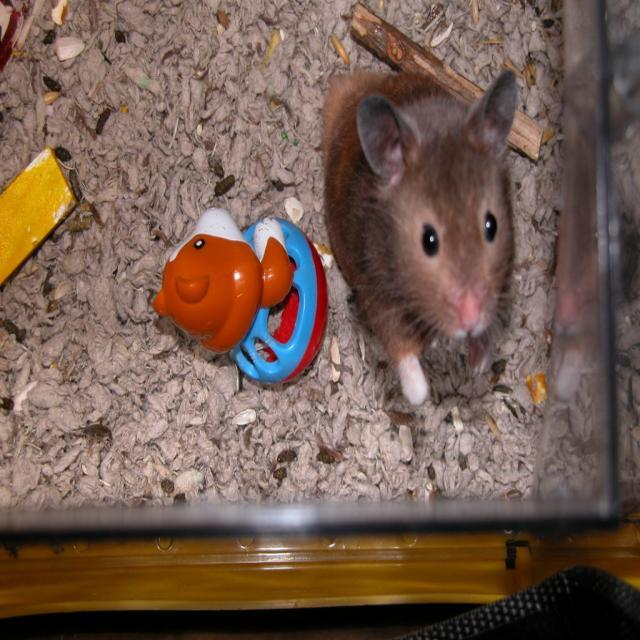rat: (324, 68, 520, 404)
